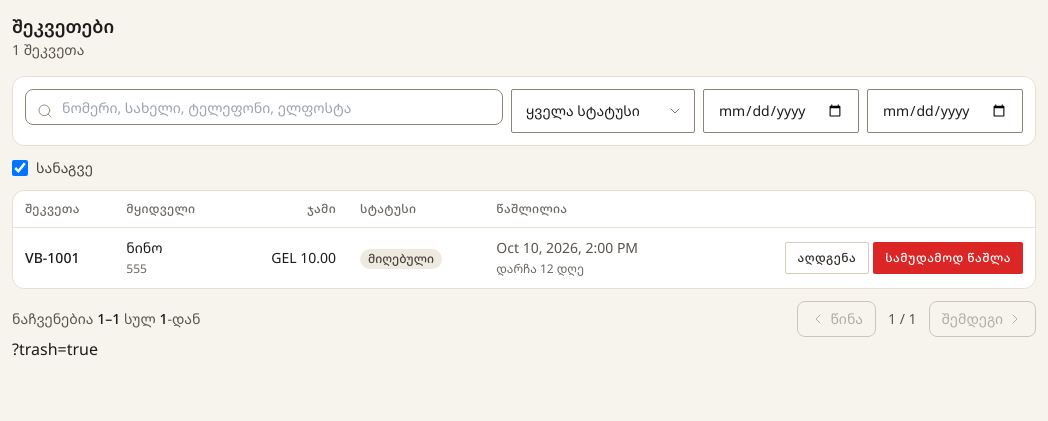
OrderList row actions in the trash › shows the message and keeps row buttons enabled when restore hits the network error
This screenshot has width=1048, height=421.
Click the button with aria-label "VB-1001 — აღდგენა". click: (827, 258)
box: [784, 242, 869, 274]
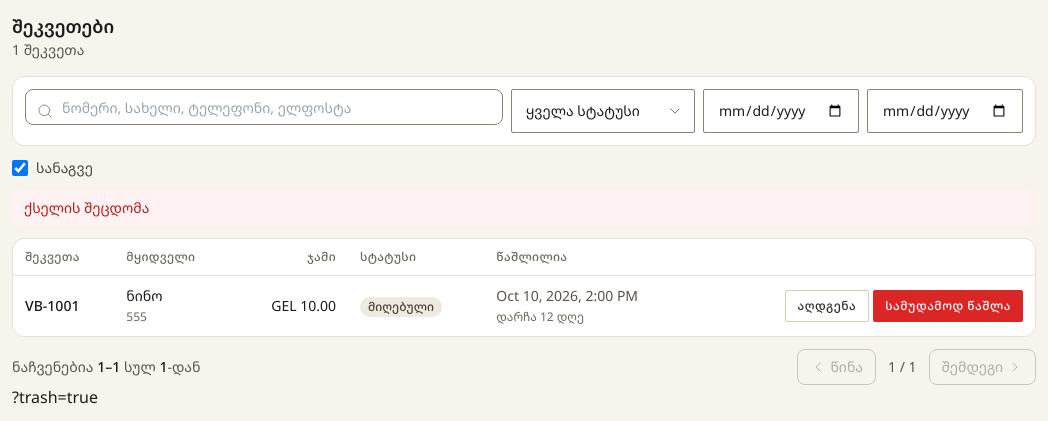
Expected: the button with aria-label "VB-1001 — აღდგენა" is enabled, [784, 290, 869, 322]
Expected: the message reads "ქსელის შეცდომა", [24, 198, 149, 217]
